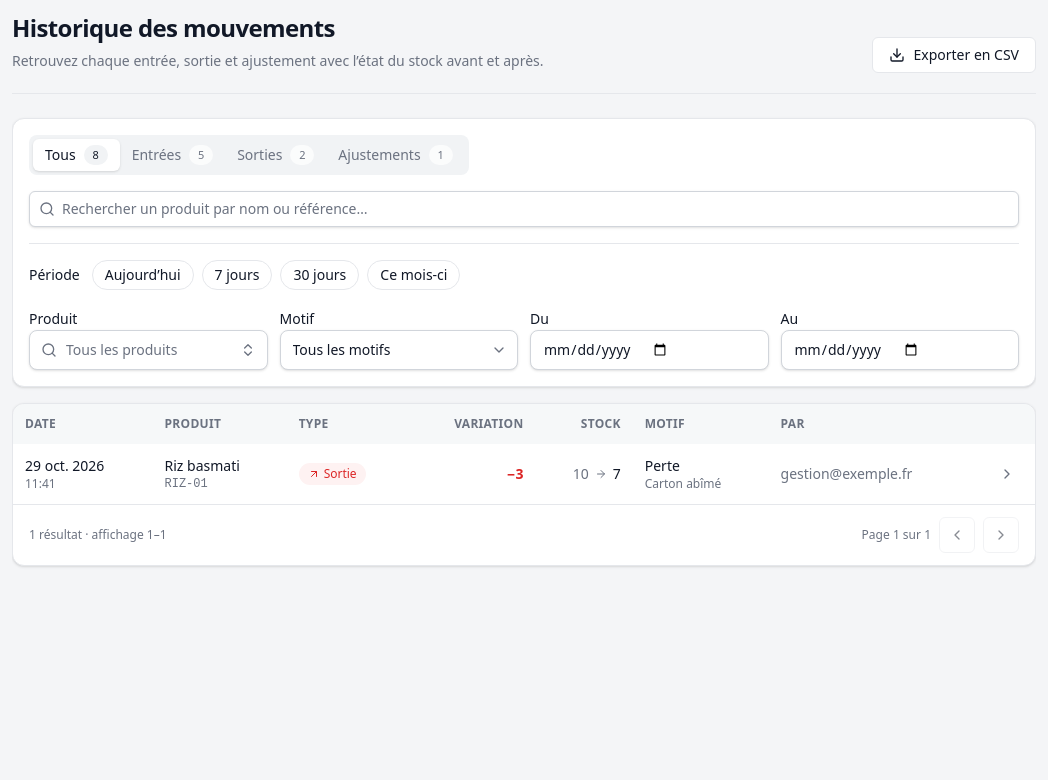
HistoryPage › affiche les compteurs par type et filtre au clic sur un onglet
The image size is (1048, 780).
Click the button "Sorties 2" at [276, 155], box [225, 139, 326, 171]
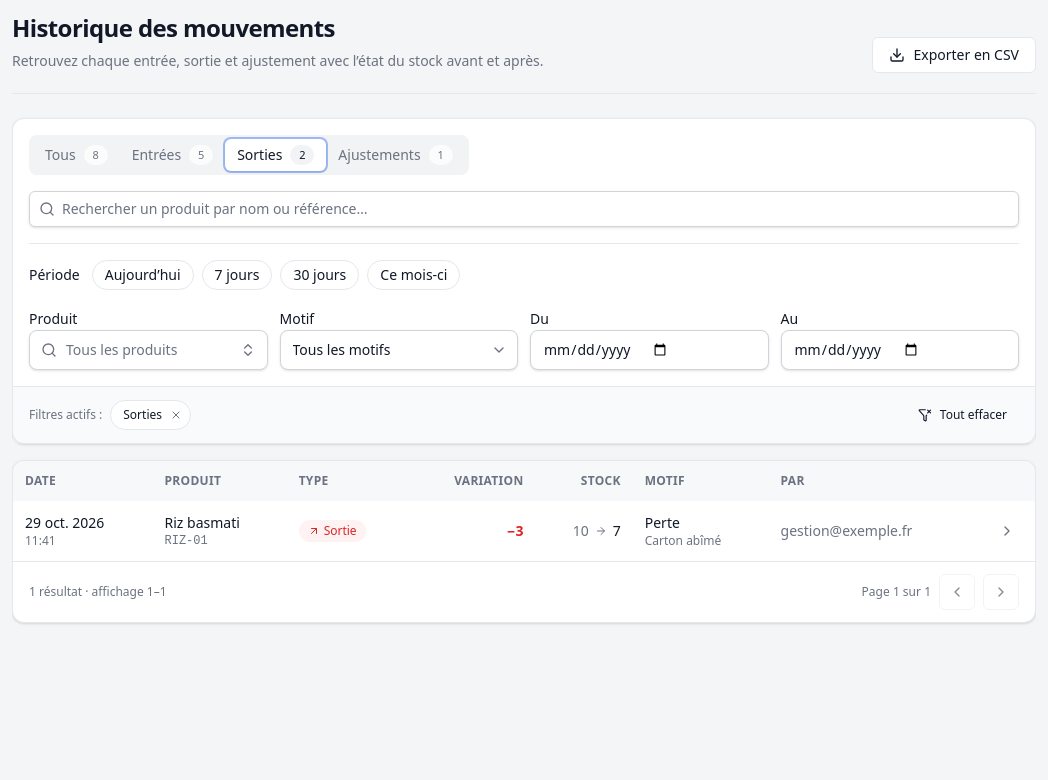
Now the button named "Retirer le filtre Sorties" is shown, box [166, 405, 186, 425]
